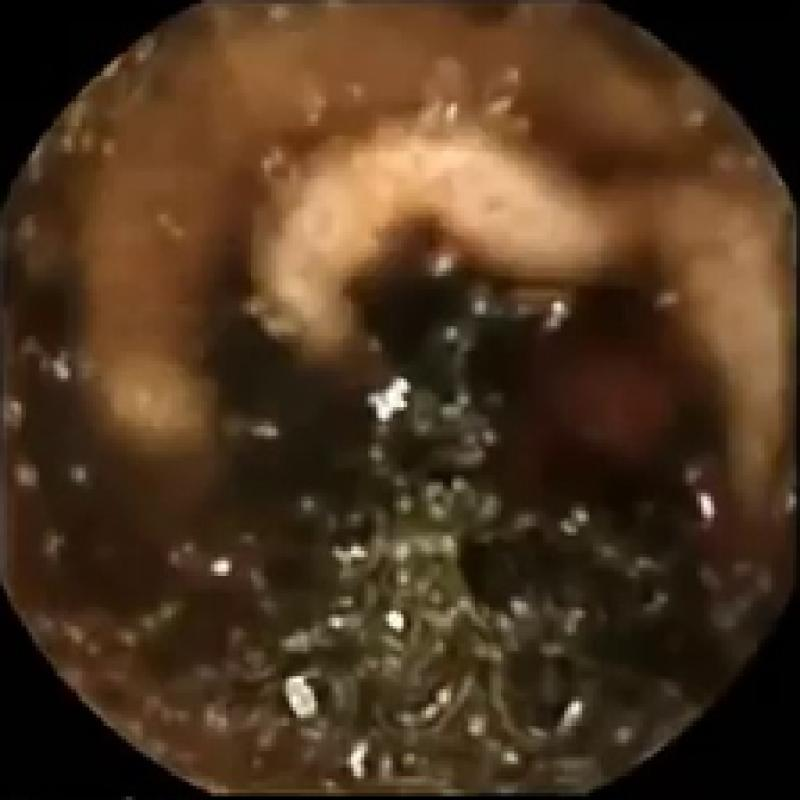bleeding: (446, 282, 722, 554)
